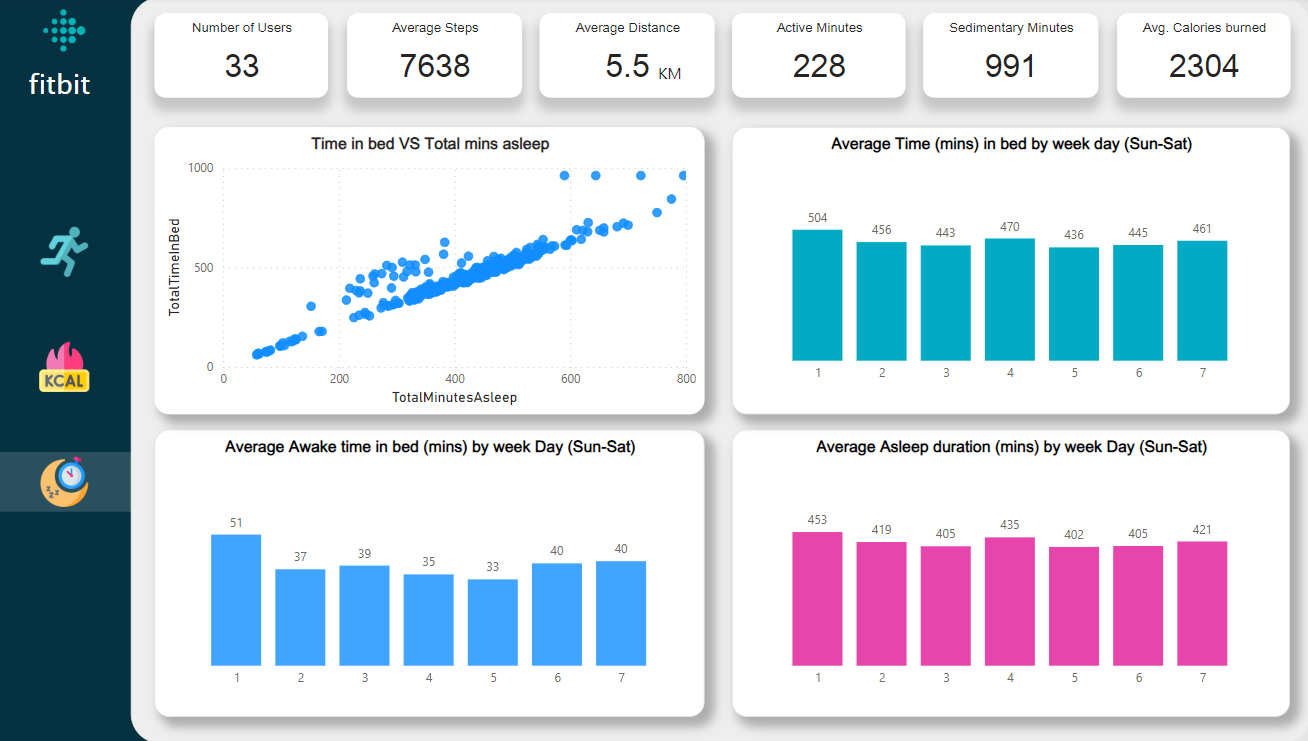

This screenshot's page, from the dashboard's own definition file:
{"tool":"powerbi","page":{"name":"Sleep","canvas":[1320,720],"ordinal":2},"visuals":[{"type":"shape","box":[1150.9,0,169.4,720.3],"z":0},{"type":"shape","box":[133.9,0,1185.5,721.2],"z":1000},{"type":"shape","title":"Avg Calories burned","box":[1125.3,18.6,174.9,87.4],"z":2000},{"type":"shape","title":"Avg Sedimentary mins","box":[934.7,17.2,174.9,87.4],"z":3000},{"type":"shape","title":"Avg. Distance","box":[544.7,15.8,174.9,87.4],"z":4000},{"type":"shape","title":"Avg Active Mins","box":[738.3,17.2,174.9,87.4],"z":5000},{"type":"shape","title":"Avg. Steps","box":[351.2,14.3,174.9,87.4],"z":6000},{"type":"card","title":"Average Steps","fields":{"Values":["Avg(dailyActivity_merged1.TotalSteps)"]},"box":[404,33.8,121.8,67.5],"z":7000},{"type":"card","title":"Average Distance","fields":{"Values":["Avg(dailyActivity_merged1.TotalDistance)"]},"box":[582.5,33.8,127.8,67.5],"z":8000},{"type":"card","title":"Avg. Active Minutes","fields":{"Values":["Avg(dailyActivity_merged1.Total Active Minutes)"]},"box":[798.4,43.4,103.7,48.2],"z":9000},{"type":"card","title":"Sedimentary Minutes","fields":{"Values":["Avg(dailyActivity_merged1.SedentaryMinutes)"]},"box":[988.9,43.4,102.5,48.2],"z":10000},{"type":"image","box":[0,7.8,135.3,52],"z":11000},{"type":"textbox","box":[0,57.2,135.3,72.9],"z":12000},{"type":"textbox","box":[659.7,59.1,53.1,42.2],"z":13000},{"type":"card","title":"Avg. Calories burnt","fields":{"Values":["Avg(dailyActivity_merged1.Calories)"]},"box":[1184.3,43.4,102.5,48.2],"z":14000},{"type":"image","box":[0,365.9,135.7,60.3],"z":15000},{"type":"image","box":[0,481.4,135.7,60.3],"z":16000},{"type":"image","box":[0,597,135.7,60.3],"z":17000},{"type":"slicer","fields":{"Values":["Date.Date"]},"box":[1.3,135,132.4,135],"z":18000},{"type":"image","box":[370.3,35,47,62.7],"z":19000},{"type":"image","box":[567.7,34.4,47.3,67.4],"z":20000},{"type":"image","box":[764.6,39.8,47,65.1],"z":21000},{"type":"image","box":[940.7,39.8,68.7,51.9],"z":22000},{"type":"image","box":[1150.6,45.8,41,49.4],"z":23000},{"type":"shape","title":"Number of Users","box":[156.8,14.5,174.9,86.8],"z":24000},{"type":"image","box":[187.8,40.1,47.3,57.3],"z":25000},{"type":"card","title":"Number of Users","fields":{"Values":["Count(dailyActivity_merged1.Id)"]},"box":[213.5,39.8,108.5,65.1],"z":26000},{"type":"shape","box":[739,431.2,560.7,288.8],"z":27000},{"type":"shape","box":[158.7,431.2,552.9,288.8],"z":28000},{"type":"shape","box":[739,130.1,560.7,288.8],"z":29000},{"type":"scatterChart","title":"Time in bed VS Total mins asleep","fields":{"Y":["sleepDay_merged4.TotalTimeInBed"],"X":["sleepDay_merged4.TotalMinutesAsleep"]},"box":[158.7,130.1,552.9,288.8],"z":30000},{"type":"clusteredColumnChart","fields":{"Y":["Avg(sleepDay_merged4.TotalTimeInBed)"],"Category":["sleepDay_merged4.Week Day"]},"box":[768.8,196,500,199.7],"z":31000},{"type":"clusteredColumnChart","fields":{"Category":["sleepDay_merged4.Week Day"],"Y":["Avg(sleepDay_merged4.TotalMinutesAsleep)"]},"box":[768.8,501.3,500,201],"z":32000},{"type":"clusteredColumnChart","fields":{"Y":["Avg(sleepDay_merged4.Awake Time)"],"Category":["sleepDay_merged4.Week Day"]},"box":[184.7,502.5,500,199.7],"z":33000},{"type":"card","title":"Avg Sleep duration (mins)","fields":{"Values":["Avg(sleepDay_merged4.TotalMinutesAsleep)"]},"box":[937,464,162.3,59.7],"z":34000},{"type":"card","title":"Avg Time (mins) in Bed","fields":{"Values":["Avg(sleepDay_merged4.TotalTimeInBed)"]},"box":[937.5,160,162.3,59.7],"z":35000}]}

Visuals, with their boxes on the page's 1320x720 design canvas (x1, y1, x2, y2). These are canvas units, not pixel positions in the 1308x741 screenshot, which may show the page scaled, cropped or inside an application window:
shape: <box>1151,0,1320,720</box>
shape: <box>134,0,1319,721</box>
"Avg Calories burned" shape: <box>1125,19,1300,106</box>
"Avg Sedimentary mins" shape: <box>935,17,1110,105</box>
"Avg. Distance" shape: <box>545,16,720,103</box>
"Avg Active Mins" shape: <box>738,17,913,105</box>
"Avg. Steps" shape: <box>351,14,526,102</box>
"Average Steps" card: <box>404,34,526,101</box>
"Average Distance" card: <box>582,34,710,101</box>
"Avg. Active Minutes" card: <box>798,43,902,92</box>
"Sedimentary Minutes" card: <box>989,43,1091,92</box>
image: <box>0,8,135,60</box>
textbox: <box>0,57,135,130</box>
textbox: <box>660,59,713,101</box>
"Avg. Calories burnt" card: <box>1184,43,1287,92</box>
image: <box>0,366,136,426</box>
image: <box>0,481,136,542</box>
image: <box>0,597,136,657</box>
slicer - Date.Date: <box>1,135,134,270</box>
image: <box>370,35,417,98</box>
image: <box>568,34,615,102</box>
image: <box>765,40,812,105</box>
image: <box>941,40,1009,92</box>
image: <box>1151,46,1192,95</box>
"Number of Users" shape: <box>157,14,332,101</box>
image: <box>188,40,235,97</box>
"Number of Users" card: <box>214,40,322,105</box>
shape: <box>739,431,1300,720</box>
shape: <box>159,431,712,720</box>
shape: <box>739,130,1300,419</box>
"Time in bed VS Total mins asleep" scatterChart: <box>159,130,712,419</box>
clusteredColumnChart - Avg(sleepDay_merged4.TotalTimeInBed) x sleepDay_merged4.Week Day: <box>769,196,1269,396</box>
clusteredColumnChart - sleepDay_merged4.Week Day x Avg(sleepDay_merged4.TotalMinutesAsleep): <box>769,501,1269,702</box>
clusteredColumnChart - Avg(sleepDay_merged4.Awake Time) x sleepDay_merged4.Week Day: <box>185,502,685,702</box>
"Avg Sleep duration (mins)" card: <box>937,464,1099,524</box>
"Avg Time (mins) in Bed" card: <box>938,160,1100,220</box>
